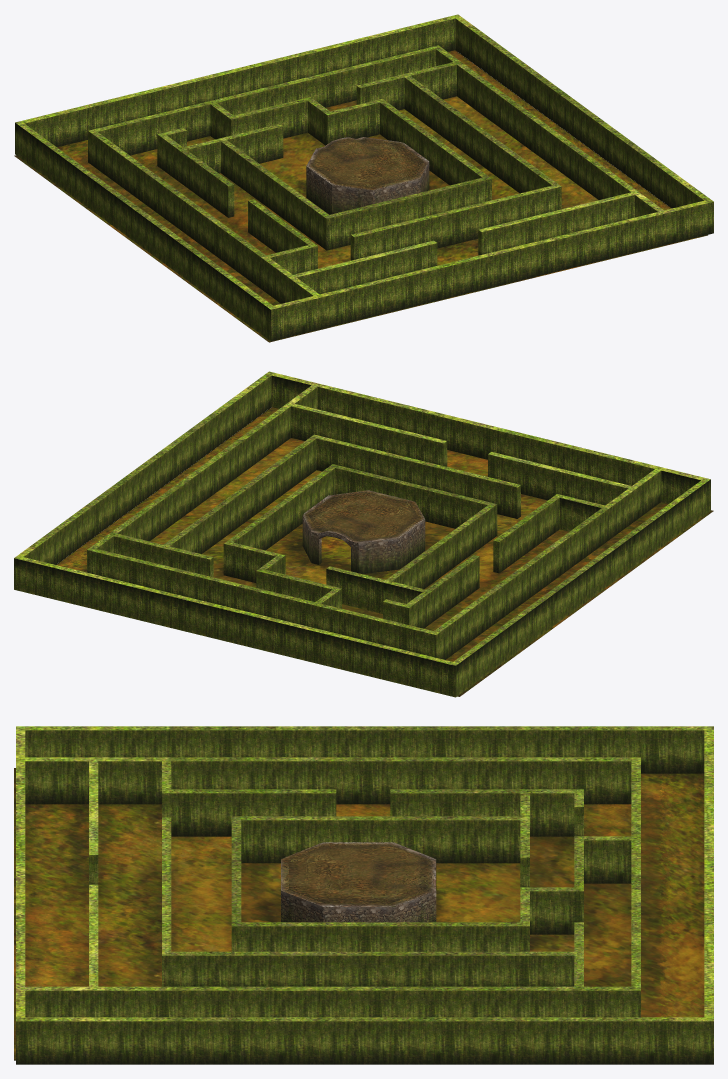
File: Cenarios_Fase_02.fbx
The picture shows the model from 3 angles, top to bottom: view 1: azimuth 30°, elevation 25°; view 2: azimuth 150°, elevation 25°; view 3: azimuth 270°, elevation 25°; orthographic projection. The views are drawn at different scales.
Visible parts, largest first — view 1: Cenarios_02:Labirinta_Fase_02, Cenarios_02:pPlane1, Cenarios_02:Teto_Fase_02, Cenarios_02:Centro_Cenario_02; view 2: Cenarios_02:Labirinta_Fase_02, Cenarios_02:pPlane1, Cenarios_02:Centro_Cenario_02, Cenarios_02:Teto_Fase_02; view 3: Cenarios_02:Labirinta_Fase_02, Cenarios_02:pPlane1, Cenarios_02:Teto_Fase_02, Cenarios_02:Centro_Cenario_02.
Boxes of the visible parts, bbox=[...] form: Cenarios_02:Labirinta_Fase_02: bbox=[15, 14, 713, 341]; Cenarios_02:pPlane1: bbox=[14, 50, 707, 342]; Cenarios_02:Teto_Fase_02: bbox=[312, 139, 423, 187]; Cenarios_02:Centro_Cenario_02: bbox=[306, 137, 429, 214]; Cenarios_02:Labirinta_Fase_02: bbox=[14, 371, 710, 697]; Cenarios_02:pPlane1: bbox=[56, 407, 713, 696]; Cenarios_02:Centro_Cenario_02: bbox=[302, 490, 425, 574]; Cenarios_02:Teto_Fase_02: bbox=[308, 492, 419, 540]; Cenarios_02:Labirinta_Fase_02: bbox=[16, 726, 713, 1064]; Cenarios_02:pPlane1: bbox=[14, 768, 704, 1060]; Cenarios_02:Teto_Fase_02: bbox=[289, 845, 428, 903]; Cenarios_02:Centro_Cenario_02: bbox=[281, 842, 436, 922].
Bounding box in the file's own units: 221 × 17.39 × 221.
